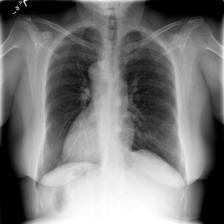normal: (29, 20, 194, 195)
